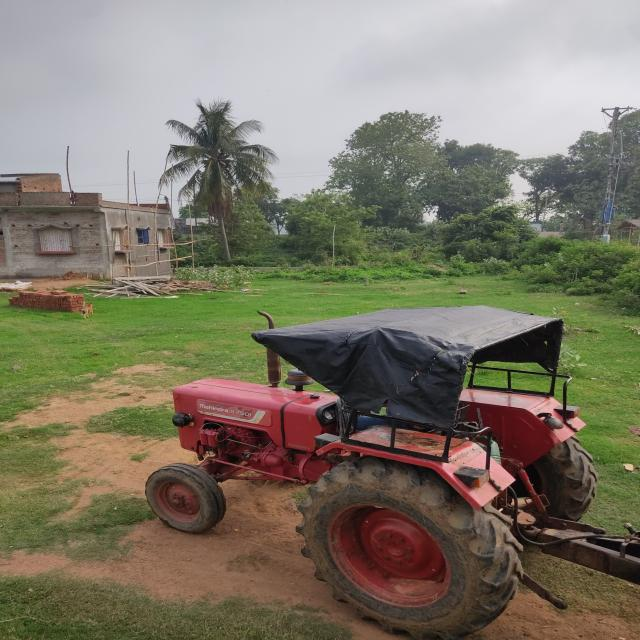Tractor: (135, 293, 608, 613)
